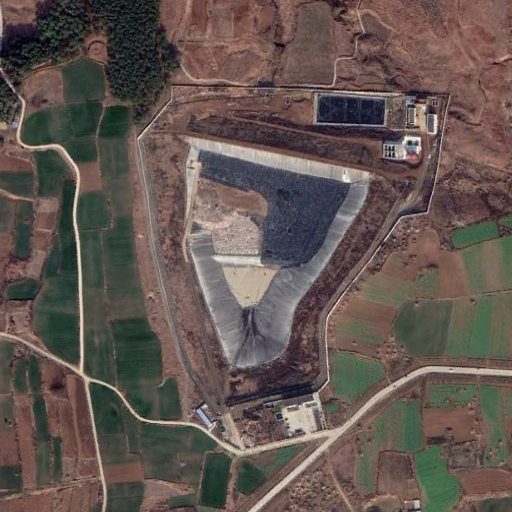lf: (185, 135, 369, 377)
